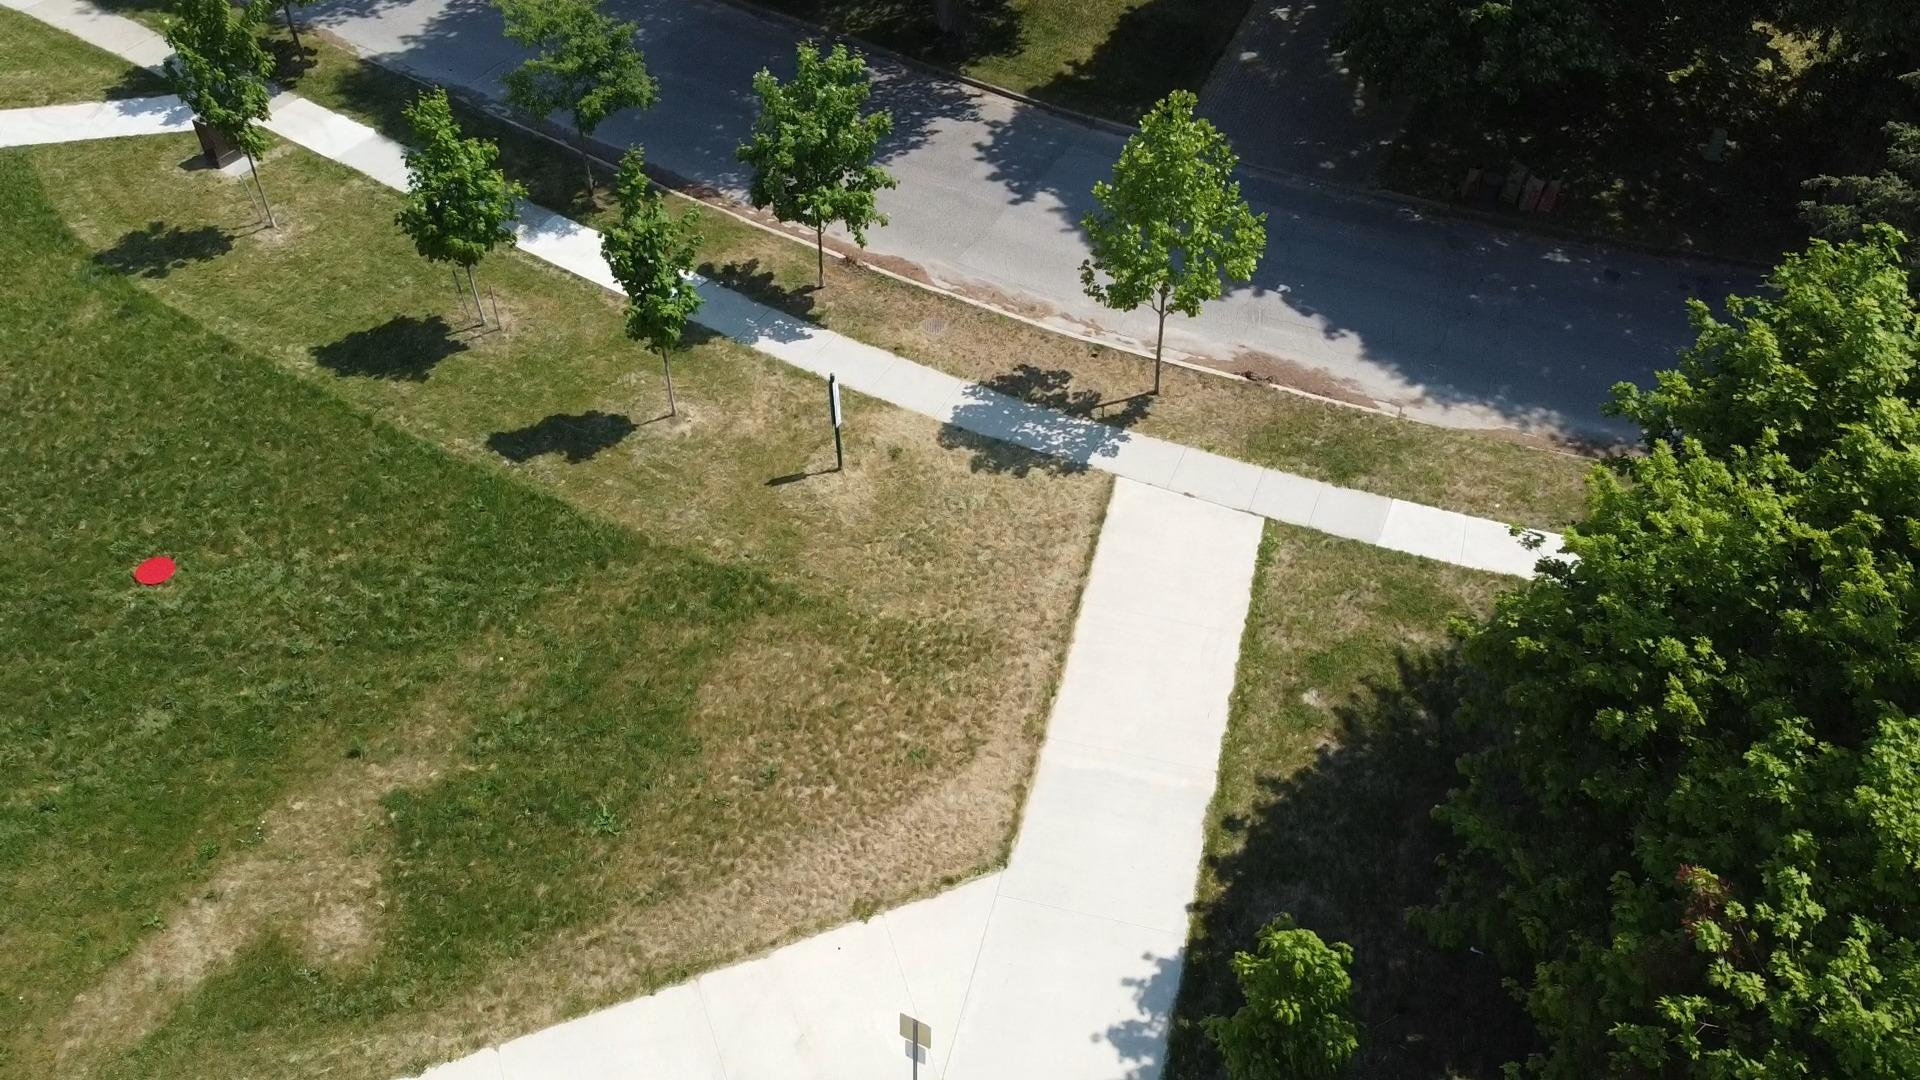Red: (133, 555, 178, 587)
